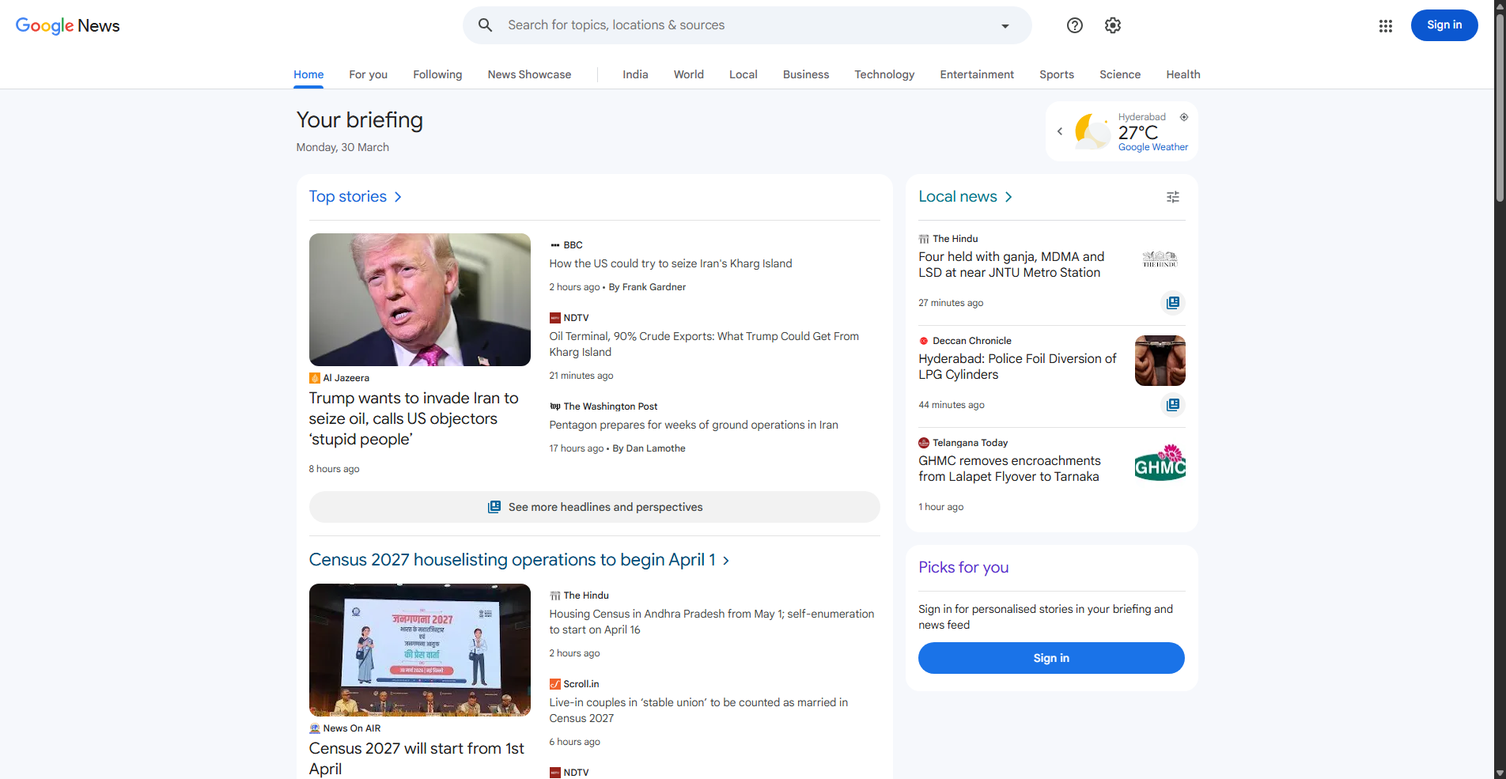button: (983, 7, 1031, 48), (952, 7, 996, 43), (463, 7, 507, 43), (1056, 6, 1094, 44), (1154, 178, 1192, 216), (1094, 6, 1131, 44), (1370, 10, 1402, 42), (1052, 108, 1068, 155), (1163, 111, 1188, 136), (865, 308, 887, 331), (1106, 331, 1128, 354), (1106, 433, 1128, 456), (515, 369, 537, 391), (865, 236, 887, 258), (865, 397, 887, 419), (515, 719, 537, 741), (865, 586, 887, 608), (865, 675, 887, 697), (1106, 229, 1128, 251), (865, 763, 887, 779)
icon: (1165, 295, 1181, 311), (1165, 397, 1181, 413), (487, 499, 502, 515)
input: (507, 7, 955, 43)
link: (309, 233, 530, 482), (309, 584, 530, 779), (549, 312, 880, 388), (549, 590, 880, 666), (549, 679, 880, 754), (549, 240, 880, 300), (549, 401, 880, 461), (309, 491, 880, 523), (309, 388, 530, 450), (918, 233, 1185, 284), (918, 335, 1185, 386), (918, 437, 1185, 488), (309, 549, 880, 571), (549, 328, 880, 360), (549, 694, 880, 726), (549, 606, 880, 637), (918, 639, 1185, 677), (309, 739, 530, 779), (918, 249, 1122, 281), (918, 351, 1122, 383), (918, 453, 1122, 485), (549, 255, 880, 271), (549, 417, 880, 433), (549, 767, 880, 779), (16, 8, 120, 46), (1411, 9, 1478, 41), (918, 187, 1016, 207), (309, 187, 406, 207), (488, 67, 571, 81), (940, 67, 1014, 81), (854, 67, 915, 81), (1118, 142, 1188, 152), (413, 67, 462, 81), (293, 67, 324, 89), (1160, 290, 1185, 316), (1160, 392, 1185, 418), (783, 67, 829, 81), (1100, 67, 1141, 81), (349, 67, 388, 81), (1166, 67, 1201, 81), (1040, 67, 1074, 81), (674, 67, 704, 81), (729, 67, 758, 81), (623, 67, 648, 81)
